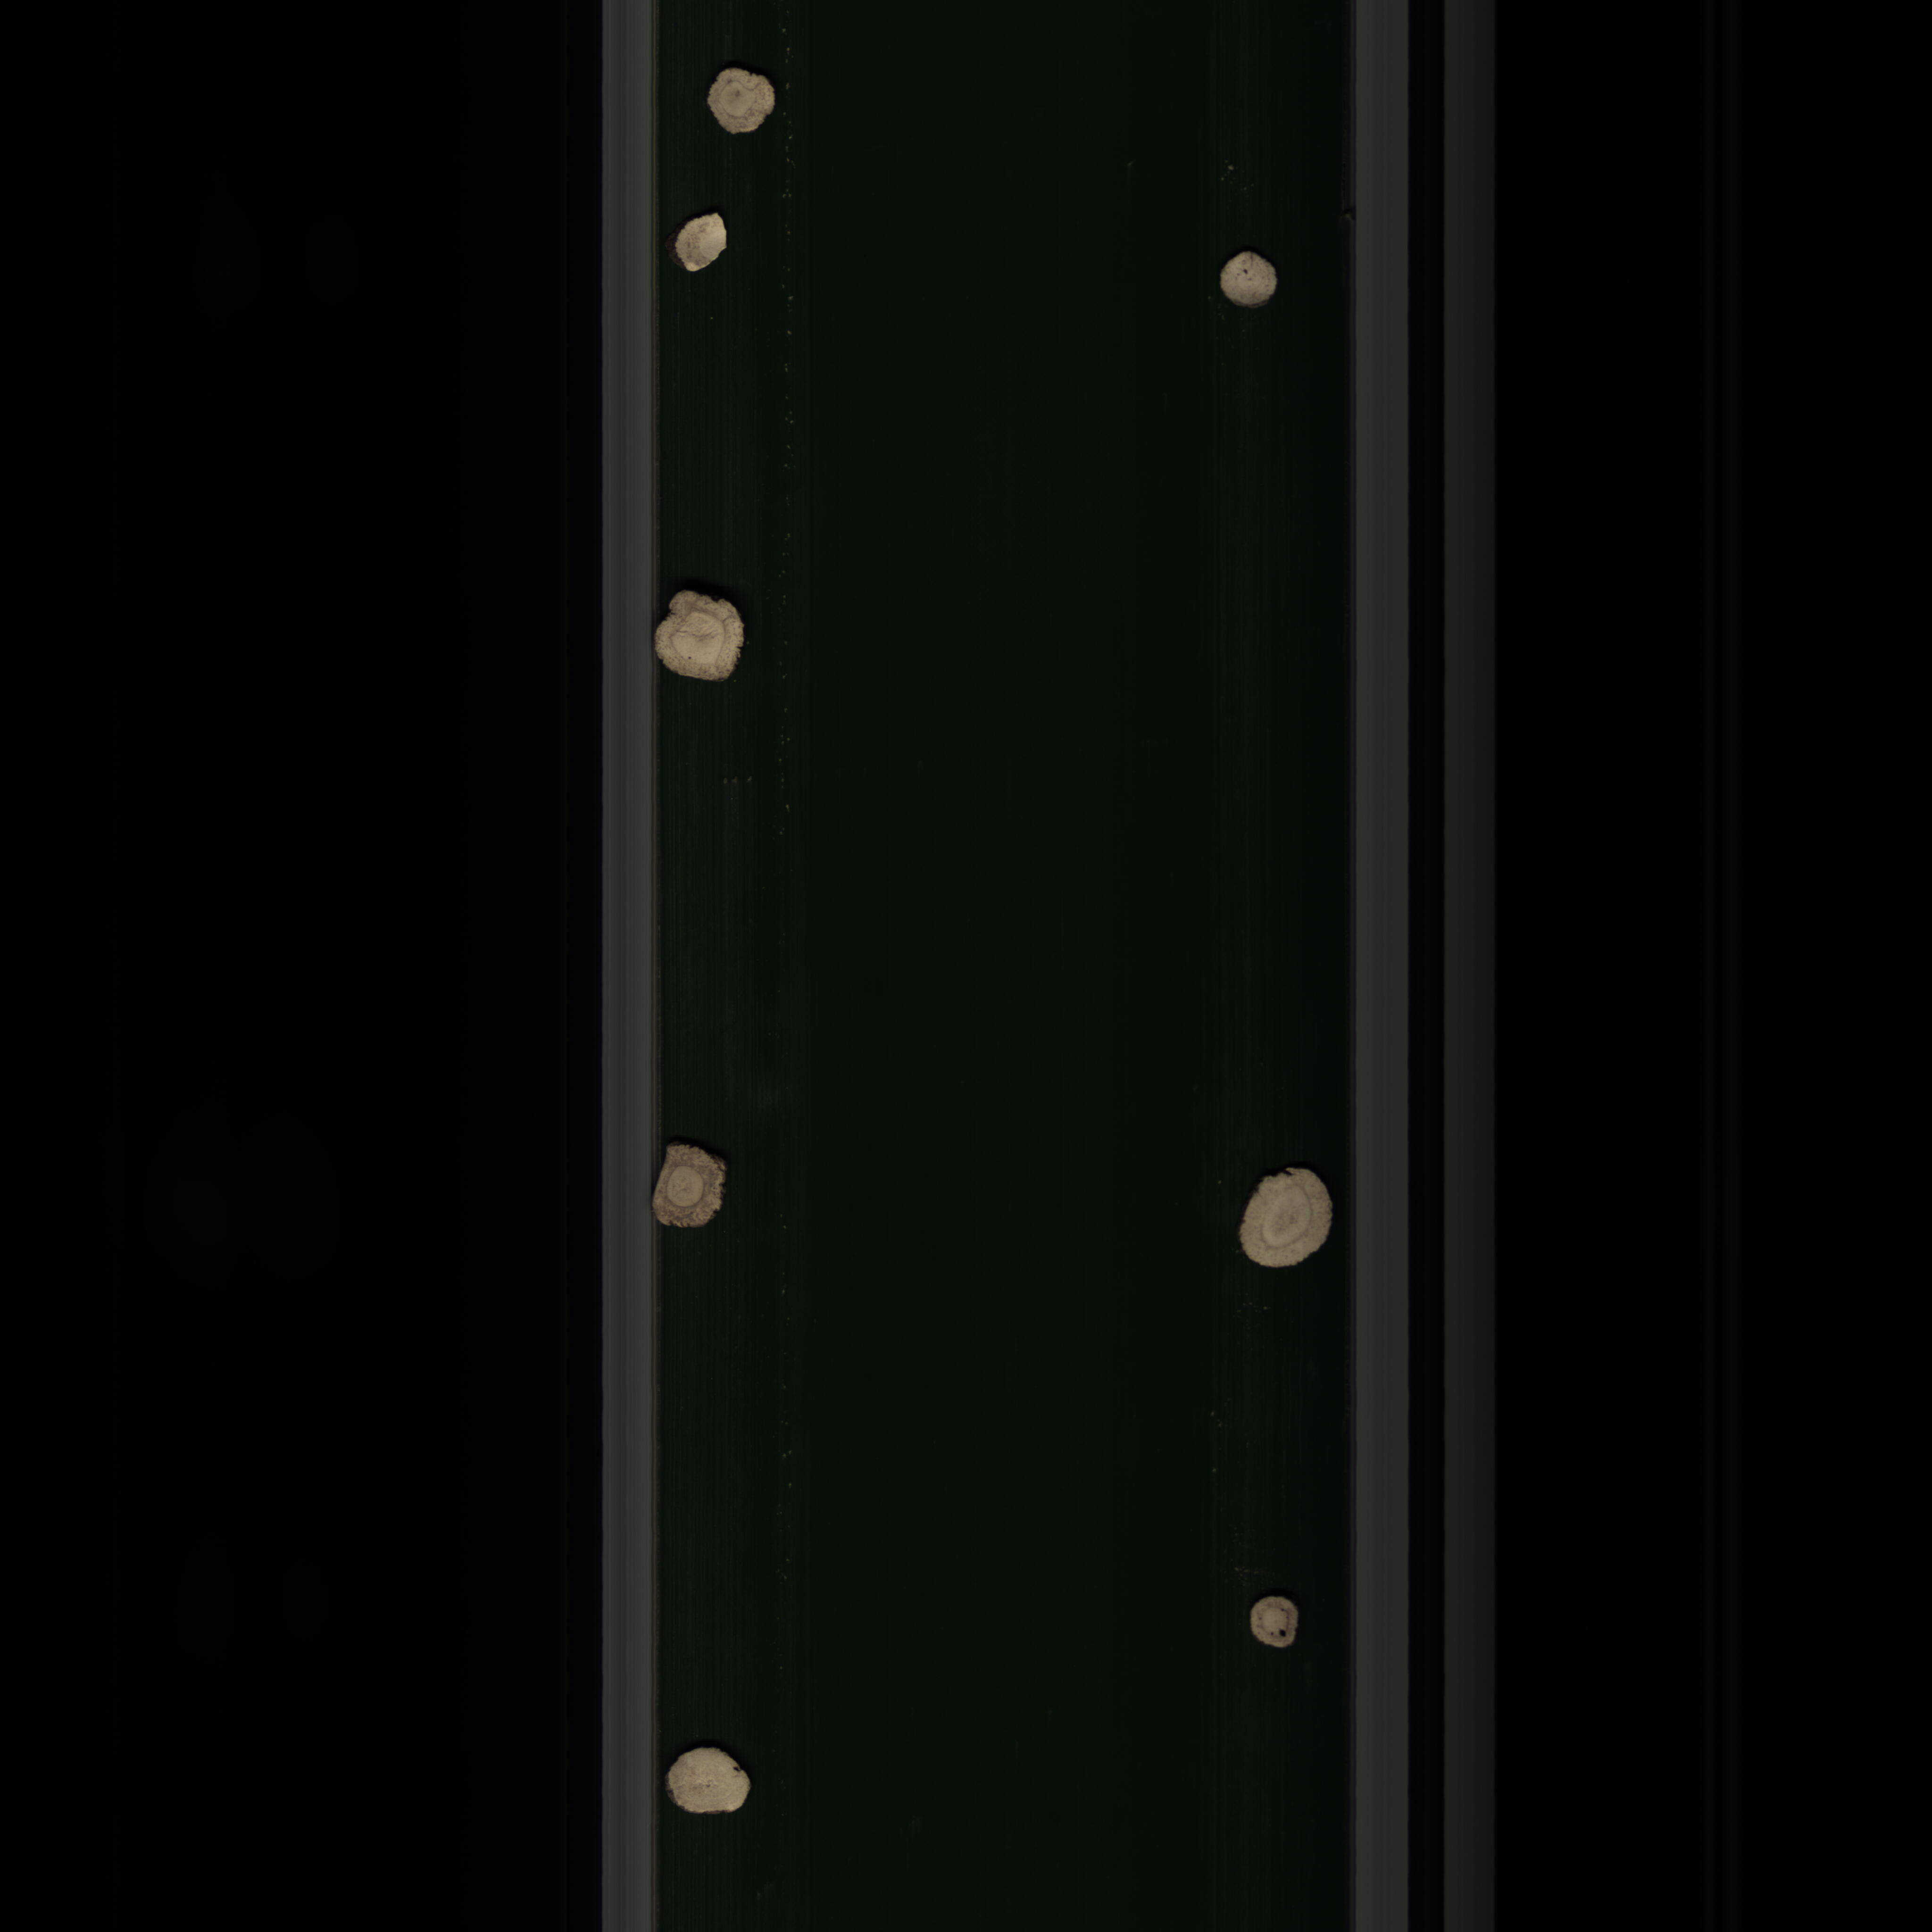debris: (663, 205, 731, 281)
moldy: (646, 1139, 748, 1242), (1242, 1587, 1307, 1658)
